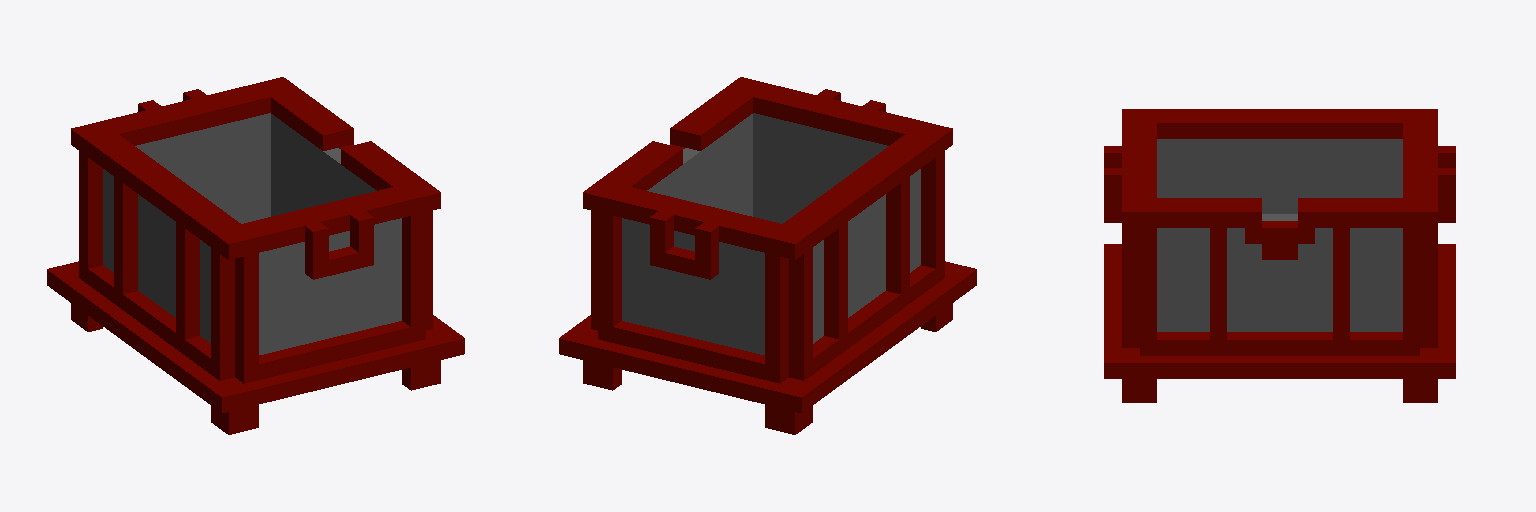
3 views of the same model, side by side, from view 1: azimuth 30°, elevation 25°; view 2: azimuth 150°, elevation 25°; view 3: azimuth 270°, elevation 25° (orthographic).
Parts seen in each view (by area): view 1: Matrix_12; view 2: Matrix_12; view 3: Matrix_12.
Part boxes in pixels (x1,y1,x2,y2): Matrix_12: (47, 77, 464, 434); Matrix_12: (559, 77, 976, 434); Matrix_12: (1104, 109, 1455, 402).
Size of the model in its own units: 16 by 12 by 20.
Materials: 1 (1 with a texture image).